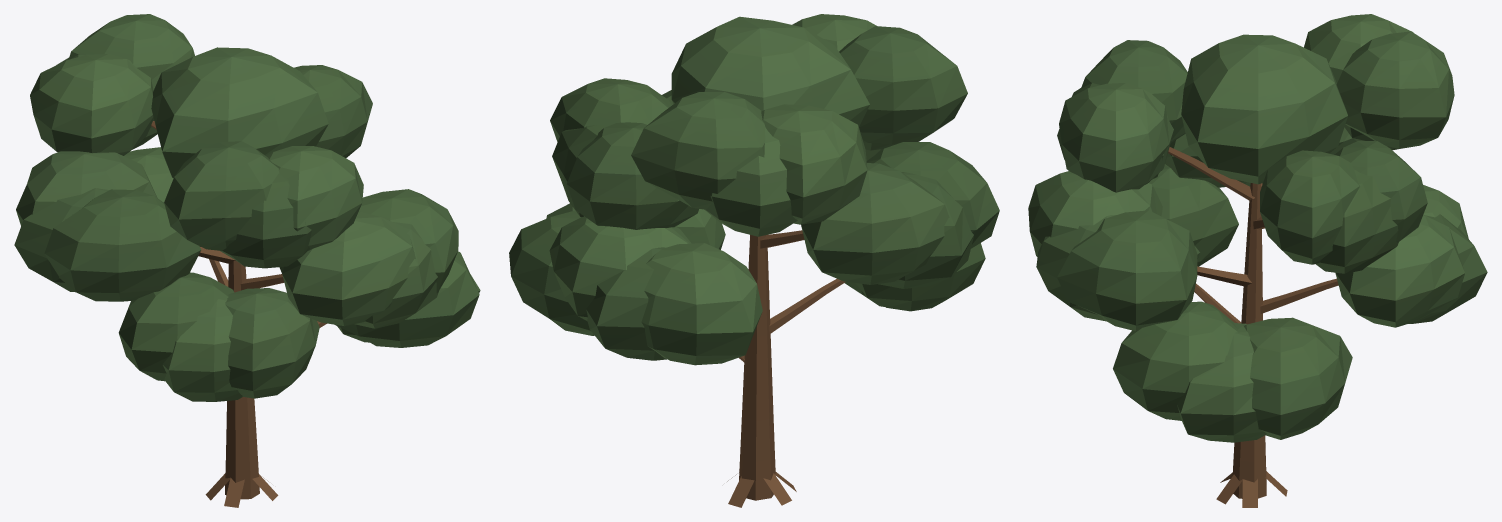
File: l-oak.glb
3 views of the same model, side by side, from view 1: azimuth 30°, elevation 25°; view 2: azimuth 150°, elevation 25°; view 3: azimuth 270°, elevation 25° (orthographic). The views are drawn at different scales.
Visible parts, largest first — view 1: LowPolyCanopy, LowPolyWood; view 2: LowPolyCanopy, LowPolyWood; view 3: LowPolyCanopy, LowPolyWood.
Part boxes in pixels (box(x1,y1,x2,y2)): LowPolyCanopy: box(14, 14, 480, 401); LowPolyWood: box(151, 121, 326, 507); LowPolyCanopy: box(509, 14, 999, 365); LowPolyWood: box(727, 230, 845, 507); LowPolyCanopy: box(1028, 14, 1487, 442); LowPolyWood: box(1168, 147, 1338, 507).
Size of the model in its own units: 2.45 by 2.4 by 2.25.
